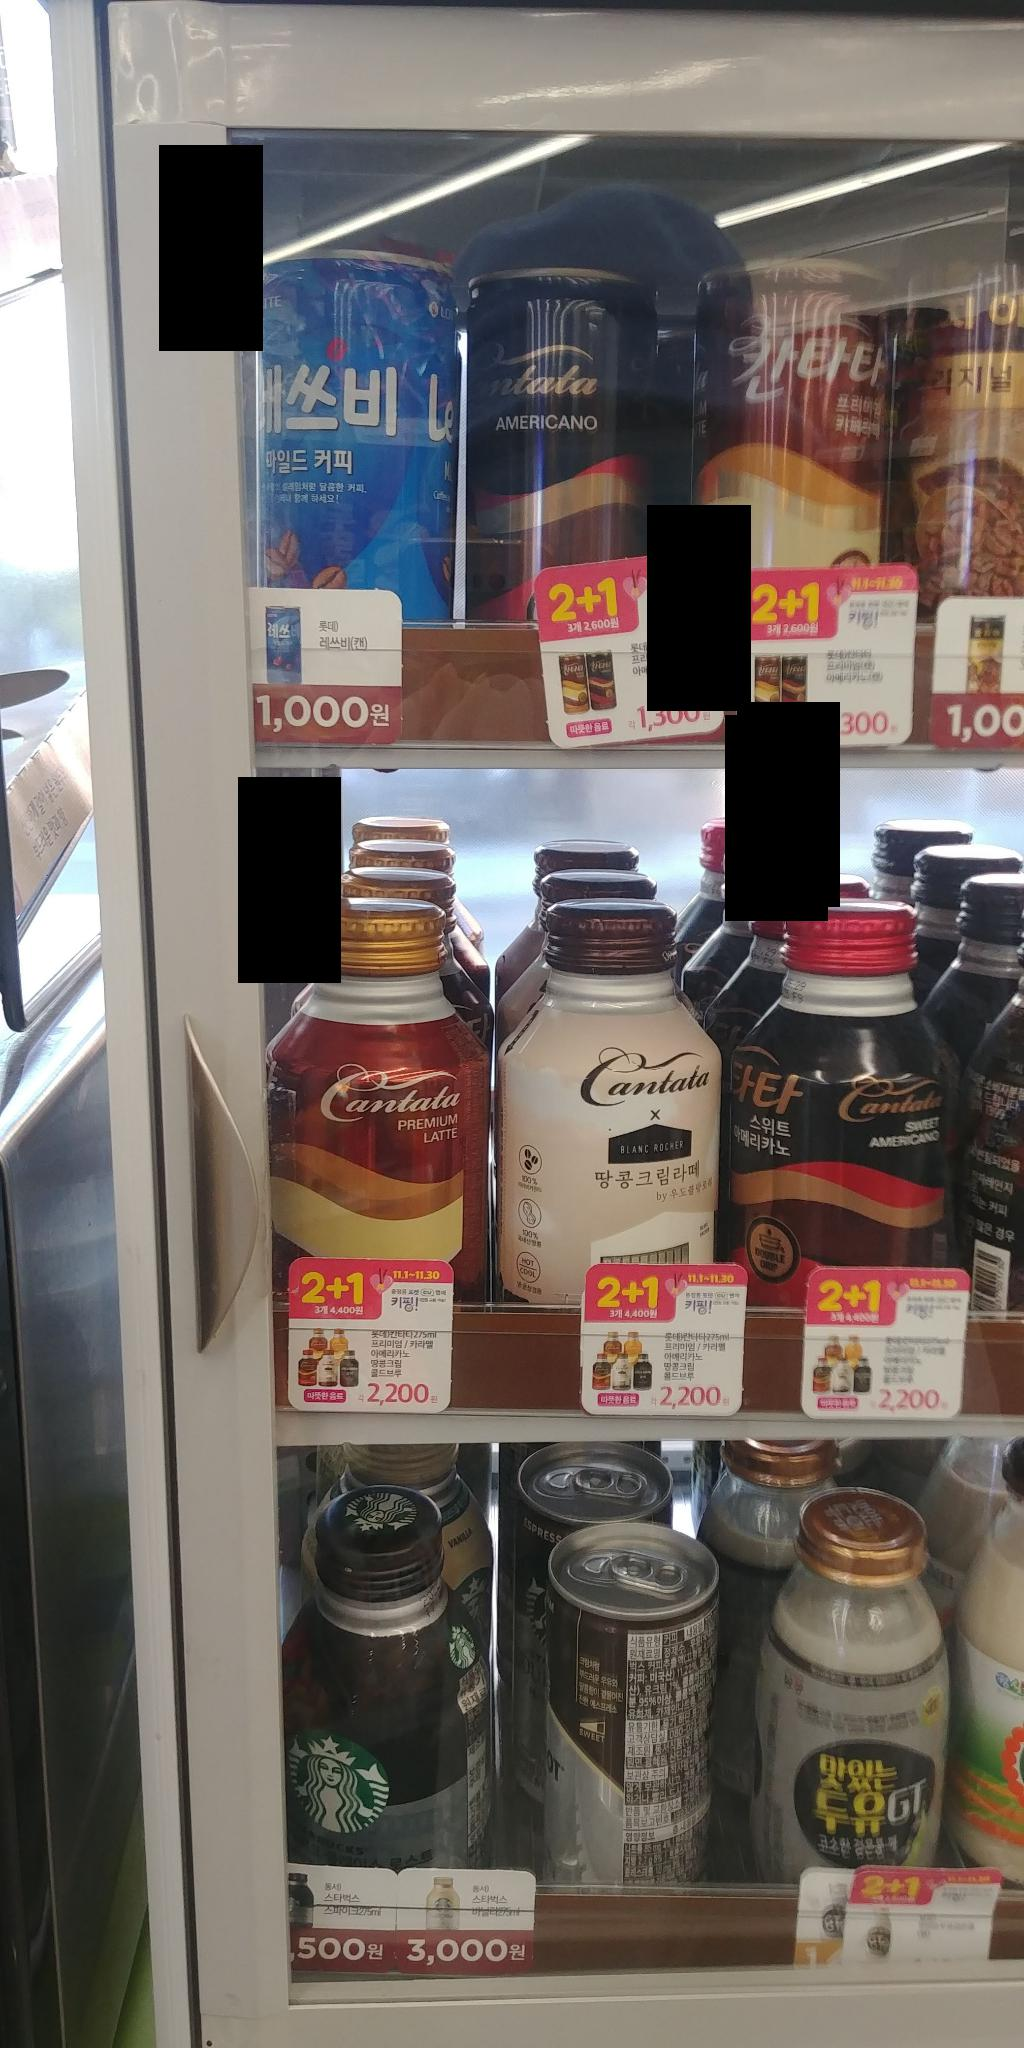letsbe: (236, 226, 475, 656)
